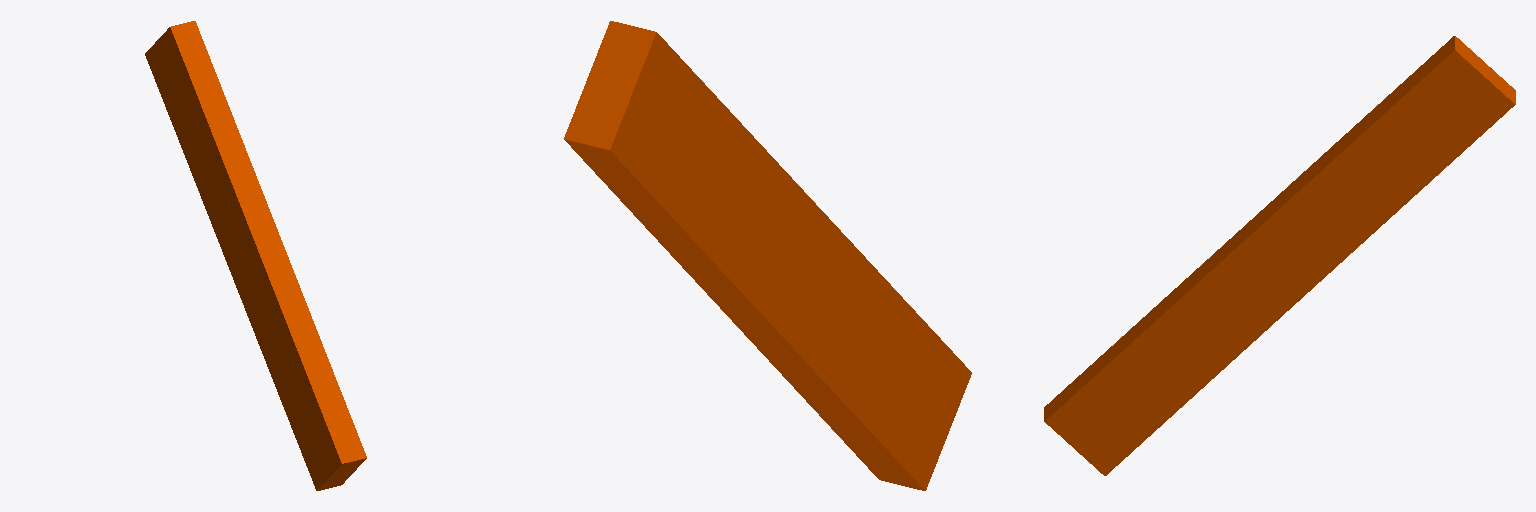
robot.urdf — panda:
<?xml version="1.0" ?>
<!-- =================================================================================== -->
<!-- |    This document was autogenerated by xacro from src/franka_ros/franka_description/robots/panda_arm_hand.urdf.xacro | -->
<!-- |    EDITING THIS FILE BY HAND IS NOT RECOMMENDED                                 | -->
<!-- =================================================================================== -->
<robot name="panda" xmlns:xacro="http://www.ros.org/wiki/xacro">
  <!-- end for simulation -->
  <!-- for simulation -->
  <link name="world"/>
  <joint name="robot_to_world" type="fixed">
    <parent link="world"/>
    <child link="panda_link0"/>
    <origin rpy="0.0 0.0 0.0" xyz="0.0 0.0 0.0"/>
  </joint>
  <!-- end for simulation -->
  <link name="panda_link0">
    <visual>
      <geometry>
        <!--mesh filename="package://franka_description/meshes/collision/link0.stl"/-->
        <mesh filename="package://franka_description/meshes/collision/link0.stl"/>
      </geometry>
    </visual>
    <collision>
      <geometry>
        <mesh filename="package://franka_description/meshes/collision/link0.stl"/>
      </geometry>
    </collision>
    <!-- for simulation -->
    <inertial>
      <origin rpy="0 0 0" xyz="0 0 0"/>
      <mass value="3.06"/>
      <inertia ixx="0.3" ixy="0.0" ixz="0.0" iyy="0.3" iyz="0.0" izz="0.3"/>
    </inertial>
    <!-- end for simulation -->
  </link>
  <link name="panda_link1">
    <visual>
      <geometry>
        <mesh filename="package://franka_description/meshes/collision/link1.stl"/>
      </geometry>
    </visual>
    <collision>
      <geometry>
        <mesh filename="package://franka_description/meshes/collision/link1.stl"/>
      </geometry>
    </collision>
    <!-- for simulation -->
    <inertial>
      <origin rpy="0 0 0" xyz="0 0 0"/>
      <mass value="2.34"/>
      <inertia ixx="0.3" ixy="0.0" ixz="0.0" iyy="0.3" iyz="0.0" izz="0.3"/>
    </inertial>
    <!-- end for simulation -->
  </link>
  <joint name="panda_joint1" type="revolute">
    <safety_controller k_position="100.0" k_velocity="40.0" soft_lower_limit="-2.8973" soft_upper_limit="2.8973"/>
    <origin rpy="0 0 0" xyz="0 0 0.333"/>
    <parent link="panda_link0"/>
    <child link="panda_link1"/>
    <axis xyz="0 0 1"/>
    <limit effort="87" lower="-2.8973" upper="2.8973" velocity="2.1750"/>
    <!-- for simulation -->
    <dynamics damping="1.0"/>
    <!-- end for simulation -->
  </joint>
  <link name="panda_link2">
    <visual>
      <geometry>
        <mesh filename="package://franka_description/meshes/collision/link2.stl"/>
      </geometry>
    </visual>
    <collision>
      <geometry>
        <mesh filename="package://franka_description/meshes/collision/link2.stl"/>
      </geometry>
    </collision>
    <!-- for simulation -->
    <inertial>
      <origin rpy="0 0 0" xyz="0 0 0"/>
      <mass value="2.36"/>
      <inertia ixx="0.3" ixy="0.0" ixz="0.0" iyy="0.3" iyz="0.0" izz="0.3"/>
    </inertial>
    <!-- end for simulation -->
  </link>
  <joint name="panda_joint2" type="revolute">
    <safety_controller k_position="100.0" k_velocity="40.0" soft_lower_limit="-1.7628" soft_upper_limit="1.7628"/>
    <origin rpy="-1.57079632679 0 0" xyz="0 0 0"/>
    <parent link="panda_link1"/>
    <child link="panda_link2"/>
    <axis xyz="0 0 1"/>
    <limit effort="87" lower="-1.7628" upper="1.7628" velocity="2.1750"/>
    <!-- for simulation -->
    <dynamics damping="1.0"/>
    <!-- end for simulation -->
  </joint>
  <link name="panda_link3">
    <visual>
      <geometry>
        <mesh filename="package://franka_description/meshes/collision/link3.stl"/>
      </geometry>
    </visual>
    <collision>
      <geometry>
        <mesh filename="package://franka_description/meshes/collision/link3.stl"/>
      </geometry>
    </collision>
    <!-- for simulation -->
    <inertial>
      <origin rpy="0 0 0" xyz="0 0 0"/>
      <mass value="2.38"/>
      <inertia ixx="0.3" ixy="0.0" ixz="0.0" iyy="0.3" iyz="0.0" izz="0.3"/>
    </inertial>
    <!-- end for simulation -->
  </link>
  <joint name="panda_joint3" type="revolute">
    <safety_controller k_position="100.0" k_velocity="40.0" soft_lower_limit="-2.8973" soft_upper_limit="2.8973"/>
    <origin rpy="1.57079632679 0 0" xyz="0 -0.316 0"/>
    <parent link="panda_link2"/>
    <child link="panda_link3"/>
    <axis xyz="0 0 1"/>
    <limit effort="87" lower="-2.8973" upper="2.8973" velocity="2.1750"/>
    <!-- for simulation -->
    <dynamics damping="1.0"/>
    <!-- end for simulation -->
  </joint>
  <link name="panda_link4">
    <visual>
      <geometry>
        <mesh filename="package://franka_description/meshes/collision/link4.stl"/>
      </geometry>
    </visual>
    <collision>
      <geometry>
        <mesh filename="package://franka_description/meshes/collision/link4.stl"/>
      </geometry>
    </collision>
    <!-- for simulation -->
    <inertial>
      <origin rpy="0 0 0" xyz="0 0 0"/>
      <mass value="2.43"/>
      <inertia ixx="0.3" ixy="0.0" ixz="0.0" iyy="0.3" iyz="0.0" izz="0.3"/>
    </inertial>
    <!-- end for simulation -->
  </link>
  <joint name="panda_joint4" type="revolute">
    <safety_controller k_position="100.0" k_velocity="40.0" soft_lower_limit="-3.0718" soft_upper_limit="-0.0698"/>
    <origin rpy="1.57079632679 0 0" xyz="0.0825 0 0"/>
    <parent link="panda_link3"/>
    <child link="panda_link4"/>
    <axis xyz="0 0 1"/>
    <limit effort="87" lower="-3.0718" upper="-0.0698" velocity="2.1750"/>
    <!-- for simulation -->
    <dynamics damping="1.0"/>
    <!-- end for simulation -->
  </joint>
  <link name="panda_link5">
    <visual>
      <geometry>
        <mesh filename="package://franka_description/meshes/collision/link5.stl"/>
      </geometry>
    </visual>
    <collision>
      <geometry>
        <mesh filename="package://franka_description/meshes/collision/link5.stl"/>
      </geometry>
    </collision>
    <!-- for simulation -->
    <inertial>
      <origin rpy="0 0 0" xyz="0 0 0"/>
      <mass value="3.5"/>
      <inertia ixx="0.3" ixy="0.0" ixz="0.0" iyy="0.3" iyz="0.0" izz="0.3"/>
    </inertial>
    <!-- end for simulation -->
  </link>
  <joint name="panda_joint5" type="revolute">
    <safety_controller k_position="100.0" k_velocity="40.0" soft_lower_limit="-2.8973" soft_upper_limit="2.8973"/>
    <origin rpy="-1.57079632679 0 0" xyz="-0.0825 0.384 0"/>
    <parent link="panda_link4"/>
    <child link="panda_link5"/>
    <axis xyz="0 0 1"/>
    <limit effort="12" lower="-2.8973" upper="2.8973" velocity="2.6100"/>
    <!-- for simulation -->
    <dynamics damping="1.0"/>
    <!-- end for simulation -->
  </joint>
  <link name="panda_link6">
    <visual>
      <geometry>
        <mesh filename="package://franka_description/meshes/collision/link6.stl"/>
      </geometry>
    </visual>
    <collision>
      <geometry>
        <mesh filename="package://franka_description/meshes/collision/link6.stl"/>
      </geometry>
    </collision>
    <!-- for simulation -->
    <inertial>
      <origin rpy="0 0 0" xyz="0 0 0"/>
      <mass value="1.47"/>
      <inertia ixx="0.3" ixy="0.0" ixz="0.0" iyy="0.3" iyz="0.0" izz="0.3"/>
    </inertial>
    <!-- end for simulation -->
  </link>
  <joint name="panda_joint6" type="revolute">
    <safety_controller k_position="100.0" k_velocity="40.0" soft_lower_limit="-0.0175" soft_upper_limit="3.7525"/>
    <origin rpy="1.57079632679 0 0" xyz="0 0 0"/>
    <parent link="panda_link5"/>
    <child link="panda_link6"/>
    <axis xyz="0 0 1"/>
    <limit effort="12" lower="-0.0175" upper="3.7525" velocity="2.6100"/>
    <!-- for simulation -->
    <dynamics damping="1.0"/>
    <!-- end for simulation -->
  </joint>
  <link name="panda_link7">
    <visual>
      <geometry>
        <mesh filename="package://franka_description/meshes/collision/link7.stl"/>
      </geometry>
    </visual>
    <collision>
      <geometry>
        <mesh filename="package://franka_description/meshes/collision/link7.stl"/>
      </geometry>
    </collision>
    <!-- for simulation -->
    <inertial>
      <origin rpy="0 0 0" xyz="0 0 0"/>
      <mass value="0.45"/>
      <inertia ixx="0.3" ixy="0.0" ixz="0.0" iyy="0.3" iyz="0.0" izz="0.3"/>
    </inertial>
    <!-- end for simulation -->
  </link>
  <joint name="panda_joint7" type="revolute">
    <safety_controller k_position="100.0" k_velocity="40.0" soft_lower_limit="-2.8973" soft_upper_limit="2.8973"/>
    <origin rpy="1.57079632679 0 0" xyz="0.088 0 0"/>
    <parent link="panda_link6"/>
    <child link="panda_link7"/>
    <axis xyz="0 0 1"/>
    <limit effort="12" lower="-2.8973" upper="2.8973" velocity="2.6100"/>
    <!-- for simulation -->
    <dynamics damping="1.0"/>
    <!-- end for simulation -->
  </joint>
  <link name="panda_link8">
    <!-- for simulation -->
    <inertial>
      <origin rpy="0 0 0" xyz="0 0 0"/>
      <mass value="0.0"/>
      <inertia ixx="0.3" ixy="0.0" ixz="0.0" iyy="0.3" iyz="0.0" izz="0.3"/>
    </inertial>
    <!-- end for simulation -->
  </link>
  <joint name="panda_joint8" type="fixed">
    <origin rpy="0 0 0" xyz="0 0 0.107"/>
    <parent link="panda_link7"/>
    <child link="panda_link8"/>
    <axis xyz="0 0 0"/>
  </joint>
  <joint name="panda_hand_joint" type="fixed">
    <parent link="panda_link8"/>
    <child link="panda_hand"/>
    <origin rpy="0 0 -0.785398163397" xyz="0 0 0"/>
  </joint>
  <link name="panda_hand">
    <visual>
      <geometry>
        <mesh filename="package://franka_description/meshes/collision/hand.stl"/>
      </geometry>
    </visual>
    <collision>
      <origin rpy="0 1.57079632679 1.57079632679" xyz="0 0 0.04"/>
      <geometry>
        <cylinder length="0.1" radius="0.04"/>
      </geometry>
    </collision>
    <collision>
      <origin rpy="0 0 0" xyz="0 -0.05 0.04"/>
      <geometry>
        <sphere radius="0.04"/>
      </geometry>
    </collision>
    <collision>
      <origin rpy="0 0 0" xyz="0 0.05 0.04"/>
      <geometry>
        <sphere radius="0.04"/>
      </geometry>
    </collision>
    <collision>
      <origin rpy="0 1.57079632679 1.57079632679" xyz="0 0 0.1"/>
      <geometry>
        <cylinder length="0.1" radius="0.02"/>
      </geometry>
    </collision>
    <collision>
      <origin rpy="0 0 0" xyz="0 -0.05 0.1"/>
      <geometry>
        <sphere radius="0.02"/>
      </geometry>
    </collision>
    <collision>
      <origin rpy="0 0 0" xyz="0 0.05 0.1"/>
      <geometry>
        <sphere radius="0.02"/>
      </geometry>
    </collision>
    <!--
      <collision>
        <geometry>
          <mesh filename="package://franka_description/meshes/collision/hand.stl"/>
        </geometry>
      </collision>
      -->
    <!-- for simulation -->
    <inertial>
      <origin rpy="0 0 0" xyz="0 0 0"/>
      <mass value="0.68"/>
      <inertia ixx="0.1" ixy="0.0" ixz="0.0" iyy="0.1" iyz="0.0" izz="0.1"/>
    </inertial>
    <!-- end for simulation -->
  </link>
  <link name="panda_leftfinger">
    <visual>
      <geometry>
        <mesh filename="package://franka_description/meshes/collision/finger.stl"/>
      </geometry>
    </visual>
    <!--
      <collision>
        <geometry>
          <mesh filename="package://franka_description/meshes/collision/finger.stl"/>
        </geometry>
      </collision>
      -->
    <!-- for simulation -->
    <inertial>
      <origin rpy="0 0 0" xyz="0 0 0"/>
      <mass value="0.01"/>
      <inertia ixx="0.1" ixy="0.0" ixz="0.0" iyy="0.1" iyz="0.0" izz="0.1"/>
    </inertial>
    <!-- end for simulation -->
  </link>
  <link name="panda_rightfinger">
    <visual>
      <origin rpy="0 0 3.14159265359" xyz="0 0 0"/>
      <geometry>
        <mesh filename="package://franka_description/meshes/collision/finger.stl"/>
      </geometry>
    </visual>
    <!--
      <collision>
        <origin xyz="0 0 0" rpy="0 0 ${pi}"/>
        <geometry>
          <mesh filename="package://franka_description/meshes/collision/finger.stl"/>
        </geometry>
      </collision>
      -->
    <!-- for simulation -->
    <inertial>
      <origin rpy="0 0 0" xyz="0 0 0"/>
      <mass value="0.01"/>
      <inertia ixx="0.1" ixy="0.0" ixz="0.0" iyy="0.1" iyz="0.0" izz="0.1"/>
    </inertial>
    <!-- end for simulation -->
  </link>
  <joint name="panda_finger_joint1" type="prismatic">
    <parent link="panda_hand"/>
    <child link="panda_leftfinger"/>
    <origin rpy="0 0 0" xyz="0 0 0.0584"/>
    <axis xyz="0 1 0"/>
    <limit effort="20" lower="0.0" upper="0.04" velocity="0.2"/>
  </joint>
  <joint name="panda_finger_joint2" type="prismatic">
    <parent link="panda_hand"/>
    <child link="panda_rightfinger"/>
    <origin rpy="0 0 0" xyz="0 0 0.0584"/>
    <axis xyz="0 -1 0"/>
    <limit effort="20" lower="0.0" upper="0.04" velocity="0.2"/>
  </joint>
  <!-- Link0 -->
  <gazebo reference="panda_link0">
    <material>Gazebo/Grey</material>
    <mu1>0.2</mu1>
    <mu2>0.2</mu2>
  </gazebo>
  <!-- Link1 -->
  <gazebo reference="panda_link1">
    <material>Gazebo/White</material>
    <mu1>0.2</mu1>
    <mu2>0.2</mu2>
  </gazebo>
  <!-- Link2 -->
  <gazebo reference="panda_link2">
    <material>Gazebo/White</material>
    <mu1>0.2</mu1>
    <mu2>0.2</mu2>
  </gazebo>
  <!-- Link3 -->
  <gazebo reference="panda_link3">
    <material>Gazebo/White</material>
    <mu1>0.2</mu1>
    <mu2>0.2</mu2>
  </gazebo>
  <!-- Link4 -->
  <gazebo reference="panda_link4">
    <material>Gazebo/White</material>
    <mu1>0.2</mu1>
    <mu2>0.2</mu2>
  </gazebo>
  <!-- Link5 -->
  <gazebo reference="panda_link5">
    <material>Gazebo/White</material>
    <mu1>0.2</mu1>
    <mu2>0.2</mu2>
  </gazebo>
  <!-- Link6 -->
  <gazebo reference="panda_link6">
    <material>Gazebo/White</material>
    <mu1>0.2</mu1>
    <mu2>0.2</mu2>
  </gazebo>
  <!-- Link7 -->
  <gazebo reference="panda_link7">
    <material>Gazebo/Grey</material>
    <mu1>0.2</mu1>
    <mu2>0.2</mu2>
  </gazebo>
  <!-- Link8 -->
  <gazebo reference="panda_link8">
    <material>Gazebo/Grey</material>
    <mu1>0.2</mu1>
    <mu2>0.2</mu2>
  </gazebo>
  <!-- LinkHand -->
  <gazebo reference="panda_hand">
    <material>Gazebo/Grey</material>
    <mu1>0.2</mu1>
    <mu2>0.2</mu2>
  </gazebo>
  <!-- LinkRightFinger -->
  <gazebo reference="panda_rightfinger">
    <material>Gazebo/Grey</material>
    <mu1>0.2</mu1>
    <mu2>0.2</mu2>
  </gazebo>
  <!-- LinkLeftFinger -->
  <gazebo reference="panda_leftfinger">
    <material>Gazebo/Grey</material>
    <mu1>0.2</mu1>
    <mu2>0.2</mu2>
  </gazebo>
  <!-- Load Gazebo lib and set the robot namespace -->
  <gazebo>
    <plugin filename="libgazebo_ros_control.so" name="gazebo_ros_control">
      <!-- <robotNamespace>/${robot_name}</robotNamespace> -->
    </plugin>
  </gazebo>
  <transmission name="panda_tran_1">
    <type>transmission_interface/SimpleTransmission</type>
    <joint name="panda_joint1">
      <hardwareInterface>hardware_interface/PositionJointInterface</hardwareInterface>
    </joint>
    <actuator name="panda_motor_1">
      <hardwareInterface>hardware_interface/PositionJointInterface</hardwareInterface>
      <mechanicalReduction>1</mechanicalReduction>
    </actuator>
  </transmission>
  <transmission name="panda_tran_2">
    <type>transmission_interface/SimpleTransmission</type>
    <joint name="panda_joint2">
      <hardwareInterface>hardware_interface/PositionJointInterface</hardwareInterface>
    </joint>
    <actuator name="panda_motor_2">
      <hardwareInterface>hardware_interface/PositionJointInterface</hardwareInterface>
      <mechanicalReduction>1</mechanicalReduction>
    </actuator>
  </transmission>
  <transmission name="panda_tran_3">
    <type>transmission_interface/SimpleTransmission</type>
    <joint name="panda_joint3">
      <hardwareInterface>hardware_interface/PositionJointInterface</hardwareInterface>
    </joint>
    <actuator name="panda_motor_3">
      <hardwareInterface>hardware_interface/PositionJointInterface</hardwareInterface>
      <mechanicalReduction>1</mechanicalReduction>
    </actuator>
  </transmission>
  <transmission name="panda_tran_4">
    <type>transmission_interface/SimpleTransmission</type>
    <joint name="panda_joint4">
      <hardwareInterface>hardware_interface/PositionJointInterface</hardwareInterface>
    </joint>
    <actuator name="panda_motor_4">
      <hardwareInterface>hardware_interface/PositionJointInterface</hardwareInterface>
      <mechanicalReduction>1</mechanicalReduction>
    </actuator>
  </transmission>
  <transmission name="panda_tran_5">
    <type>transmission_interface/SimpleTransmission</type>
    <joint name="panda_joint5">
      <hardwareInterface>hardware_interface/PositionJointInterface</hardwareInterface>
    </joint>
    <actuator name="panda_motor_5">
      <hardwareInterface>hardware_interface/PositionJointInterface</hardwareInterface>
      <mechanicalReduction>1</mechanicalReduction>
    </actuator>
  </transmission>
  <transmission name="panda_tran_6">
    <type>transmission_interface/SimpleTransmission</type>
    <joint name="panda_joint6">
      <hardwareInterface>hardware_interface/PositionJointInterface</hardwareInterface>
    </joint>
    <actuator name="panda_motor_6">
      <hardwareInterface>hardware_interface/PositionJointInterface</hardwareInterface>
      <mechanicalReduction>1</mechanicalReduction>
    </actuator>
  </transmission>
  <transmission name="panda_tran_7">
    <type>transmission_interface/SimpleTransmission</type>
    <joint name="panda_joint7">
      <hardwareInterface>hardware_interface/PositionJointInterface</hardwareInterface>
    </joint>
    <actuator name="panda_motor_7">
      <hardwareInterface>hardware_interface/PositionJointInterface</hardwareInterface>
      <mechanicalReduction>1</mechanicalReduction>
    </actuator>
  </transmission>
  <transmission name="panda_leftfinger">
    <type>transmission_interface/SimpleTransmission</type>
    <joint name="panda_finger_joint1">
      <hardwareInterface>hardware_interface/PositionJointInterface</hardwareInterface>
    </joint>
    <actuator name="panda_finger_joint1">
      <hardwareInterface>hardware_interface/PositionJointInterface</hardwareInterface>
      <mechanicalReduction>1</mechanicalReduction>
    </actuator>
  </transmission>
  <transmission name="panda_rightfinger">
    <type>transmission_interface/SimpleTransmission</type>
    <joint name="panda_finger_joint2">
      <hardwareInterface>hardware_interface/PositionJointInterface</hardwareInterface>
    </joint>
    <actuator name="panda_finger_joint2">
      <hardwareInterface>hardware_interface/PositionJointInterface</hardwareInterface>
      <mechanicalReduction>1</mechanicalReduction>
    </actuator>
  </transmission>
  <!-- end for simulation -->
    <!-- Camera link -->
  <link name="rs200_camera">
    <visual>
      <origin rpy="0 0 0" xyz="0 0 0"/>
      <geometry>
        <box size="0.0078 0.130 0.0192"/>
      </geometry>
    </visual>
    <collision>
      <geometry>
        <box size="0.0078 0.130 0.0192"/>
      </geometry>
    </collision>
    <inertial>
      <mass value="0.0615752"/>
      <origin rpy="0 0 0" xyz="0 0 0"/>
      <inertia ixx="9.108e-05" ixy="0" ixz="0" iyy="2.51e-06" iyz="0" izz="8.931e-05"/>
    </inertial>
  </link>
  <!-- Connect camera to parent frame-->
  <joint name="realsense_joint" type="fixed">
    <parent link="panda_link8"/>
    <child link="rs200_camera"/>
    <origin rpy="0 -1.57079632679 2.3561944901" xyz="0.03 -0.03 0.05"/>
  </joint>
  <!-- Virtual links representing the cameras positons and orientations-->
  <link name="color"/>
  <link name="depth"/>
  <link name="ired1"/>
  <link name="ired2"/>
  <!-- Joints positioning the virtual links with respect to the camera main link-->
  <joint name="color_joint" type="fixed">
    <parent link="rs200_camera"/>
    <child link="color"/>
    <!-- <origin xyz="0 -0.046 0.004" rpy="0 0 0"/> -->
    <!-- The default position is change since in Rviz the cloud depth axis is Z not X-->
    <origin rpy="1.57079632679 3.14159265359 1.57079632679" xyz="0 -0.046 0.004"/>
  </joint>
  <joint name="depth_joint" type="fixed">
    <parent link="rs200_camera"/>
    <child link="depth"/>
    <origin rpy="0 0 0" xyz="0 -0.03 0.004"/>
  </joint>
  <joint name="ired1_joint" type="fixed">
    <parent link="rs200_camera"/>
    <child link="ired1"/>
    <origin rpy="0 0 0" xyz="0 -0.06 0.004"/>
  </joint>
  <joint name="ired2_joint" type="fixed">
    <parent link="rs200_camera"/>
    <child link="ired2"/>
    <origin rpy="0 0 0" xyz="0 0.01 0.004"/>
  </joint>
  <!-- **********************************************************-->
  <!-- GAZEBO DEFINITIONS ***************************************-->
  <!-- Load plugin to the model ("robot" in urdf format)-->
  <gazebo>
    <plugin filename="librealsense_gazebo_plugin.so" name="r200">
      <prefix></prefix>
    </plugin>
    <!--<pose frame="">0 0 0.015 0 0 0</pose>-->
  </gazebo>
  <!-- Load parameters to model's main link-->
  <gazebo reference="rs200_camera">
    <self_collide>0</self_collide>
    <enable_wind>0</enable_wind>
    <kinematic>0</kinematic>
    <gravity>1</gravity>
    <!--<mu>1</mu>-->
    <mu2>1</mu2>
    <fdir1>0 0 0</fdir1>
    <!--<slip1>0</slip1>
        <slip2>0</slip2>-->
    <kp>1e+13</kp>
    <kd>1</kd>
    <!--<max_vel>0.01</max_vel>
        <min_depth>0</min_depth>-->
    <sensor name="color" type="camera">
      <pose frame="">0 -0.046 0.004 0 0 0</pose>
      <camera name="rs200_camera">
        <horizontal_fov>1.047</horizontal_fov>
        <image>
          <width>640</width>
          <height>480</height>
          <format>RGB_INT8</format>
        </image>
        <clip>
          <near>0.1</near>
          <far>100</far>
        </clip>
        <noise>
          <type>gaussian</type>
          <mean>0.0</mean>
          <stddev>0.007</stddev>
        </noise>
      </camera>
      <always_on>1</always_on>
      <update_rate>60</update_rate>
      <visualize>1</visualize>
    </sensor>
    <sensor name="ired1" type="camera">
      <pose frame="">0 -0.06 0.004 0 0 0</pose>
      <camera name="rs200_camera">
        <horizontal_fov>1.047</horizontal_fov>
        <image>
          <width>640</width>
          <height>480</height>
          <format>L_INT8</format>
        </image>
        <clip>
          <near>0.1</near>
          <far>100</far>
        </clip>
        <noise>
          <type>gaussian</type>
          <mean>0.0</mean>
          <stddev>0.05</stddev>
        </noise>
      </camera>
      <always_on>1</always_on>
      <update_rate>60</update_rate>
      <visualize>0</visualize>
    </sensor>
    <sensor name="ired2" type="camera">
      <pose frame="">0 0.01 0.004 0 0 0</pose>
      <camera name="rs200_camera">
        <horizontal_fov>1.047</horizontal_fov>
        <image>
          <width>640</width>
          <height>480</height>
          <format>L_INT8</format>
        </image>
        <clip>
          <near>0.1</near>
          <far>100</far>
        </clip>
        <noise>
          <type>gaussian</type>
          <mean>0.0</mean>
          <stddev>0.05</stddev>
        </noise>
      </camera>
      <always_on>1</always_on>
      <update_rate>60</update_rate>
      <visualize>0</visualize>
    </sensor>
    <sensor name="depth" type="depth">
      <pose frame="">0 -0.03 0.004 0 0 0</pose>
      <camera name="rs200_camera">
        <horizontal_fov>1.047</horizontal_fov>
        <image>
          <width>640</width>
          <height>480</height>
        </image>
        <clip>
          <near>0.1</near>
          <far>100</far>
        </clip>
        <noise>
          <type>gaussian</type>
          <mean>0.0</mean>
          <stddev>0.100</stddev>
        </noise>
      </camera>
      <always_on>1</always_on>
      <update_rate>60</update_rate>
      <visualize>0</visualize>
    </sensor>
  </gazebo>
</robot>

--- What the picture shows (computed from the rendered views, not written in the file) ---
The picture shows the robot from 3 angles, left to right: view 1: azimuth 30°, elevation 25°; view 2: azimuth 150°, elevation 25°; view 3: azimuth 270°, elevation 25°; orthographic projection.
Robot: panda — 18 links, 17 joints (7 revolute, 2 prismatic, 8 fixed); root link world; default pose: joints at zero except 1 at the middle of their limits (panda_joint4 = -1.57).
Visible links, largest first — view 1: rs200_camera; view 2: rs200_camera; view 3: rs200_camera.
Link boxes in pixels (x1,y1,x2,y2): rs200_camera: [145, 21, 366, 490]; rs200_camera: [564, 21, 971, 490]; rs200_camera: [1044, 36, 1515, 475].
Size in the robot's own frame: 0.0078 by 0.1055 by 0.1055 metres.
Meshes: 10 distinct files referenced, 0 mesh visuals loaded (none loaded); not drawn: 11 (reference not matched to a file when rendering).